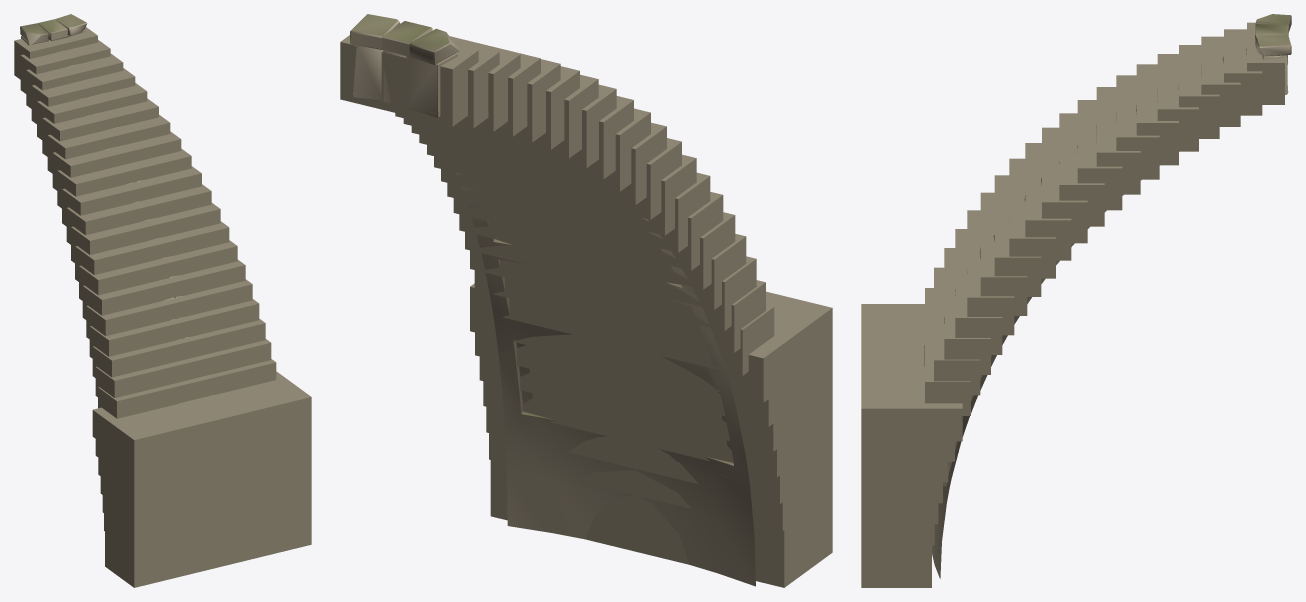
Rendered from dome_shell.glb.
3 renders of one model, left to right at view 1: azimuth 30°, elevation 25°; view 2: azimuth 150°, elevation 25°; view 3: azimuth 270°, elevation 25°, orthographic. The views are drawn at different scales.
Visible parts, largest first — view 1: dome_shell_far, dome_shell; view 2: dome_shell_far, dome_shell; view 3: dome_shell_far, dome_shell.
Part boxes in pixels (x1,y1,x2,y2): dome_shell_far: [14, 27, 311, 587]; dome_shell: [20, 14, 213, 403]; dome_shell_far: [340, 35, 832, 587]; dome_shell: [350, 14, 755, 586]; dome_shell_far: [861, 22, 1284, 587]; dome_shell: [924, 14, 1291, 578].
Bounding box in the file's own units: 21.68 × 48.73 × 37.58.
